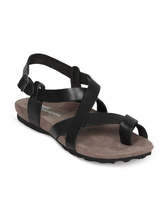shoes: (13, 51, 158, 159)
